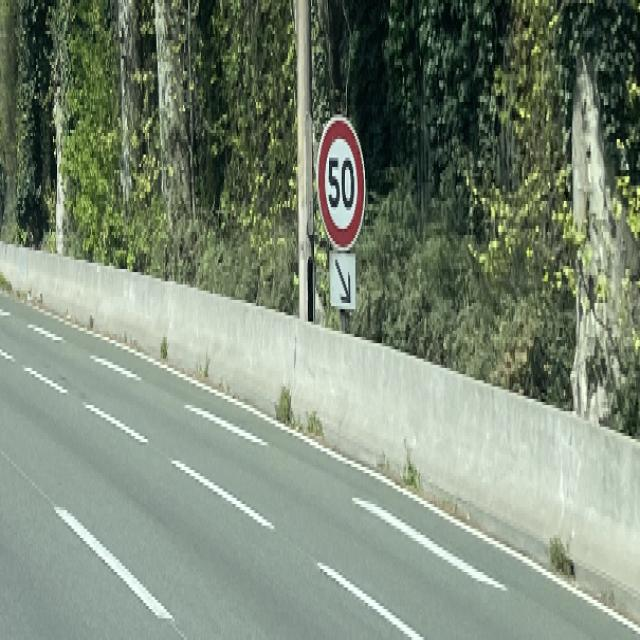speed_50: (317, 108, 367, 256)
